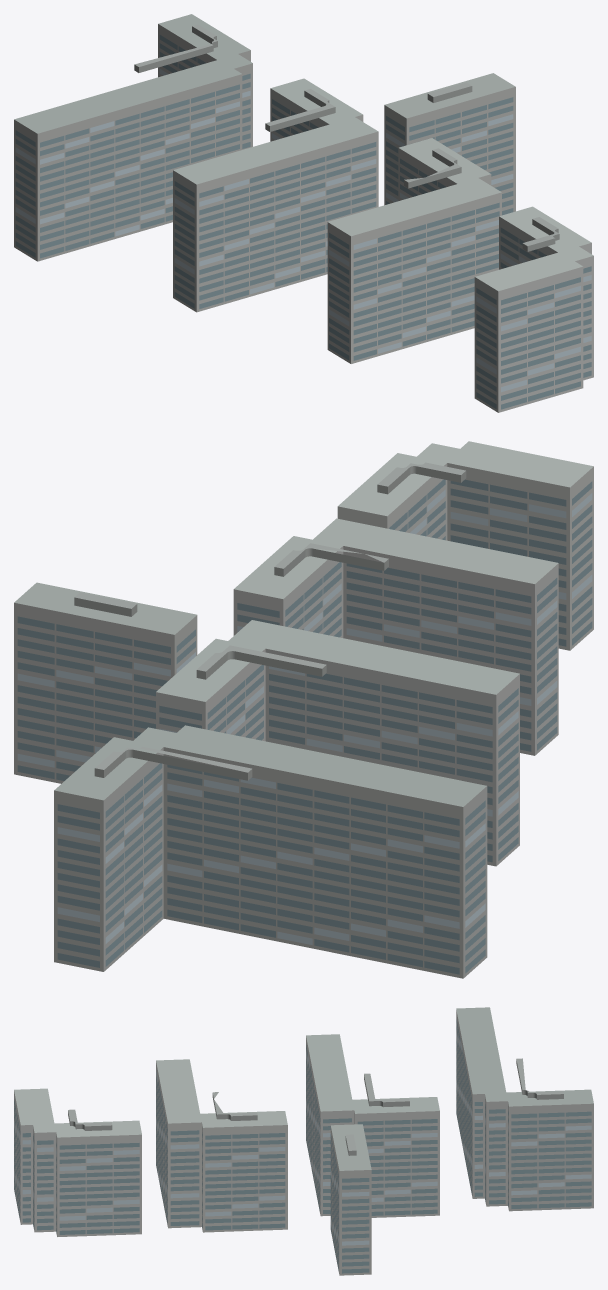
Rendered from apt-a13820005.glb.
The picture shows the model from 3 angles, top to bottom: view 1: azimuth 30°, elevation 25°; view 2: azimuth 150°, elevation 25°; view 3: azimuth 270°, elevation 25°; orthographic projection. The views are drawn at different scales.
Parts seen in each view (by area): view 1: apt-a13820005; view 2: apt-a13820005; view 3: apt-a13820005.
Part boxes in pixels (x1,y1,x2,y2): apt-a13820005: (14,14,593,412); apt-a13820005: (14,441,593,978); apt-a13820005: (14,1007,593,1275).
Size of the model in its own units: 131 by 41 by 197.
